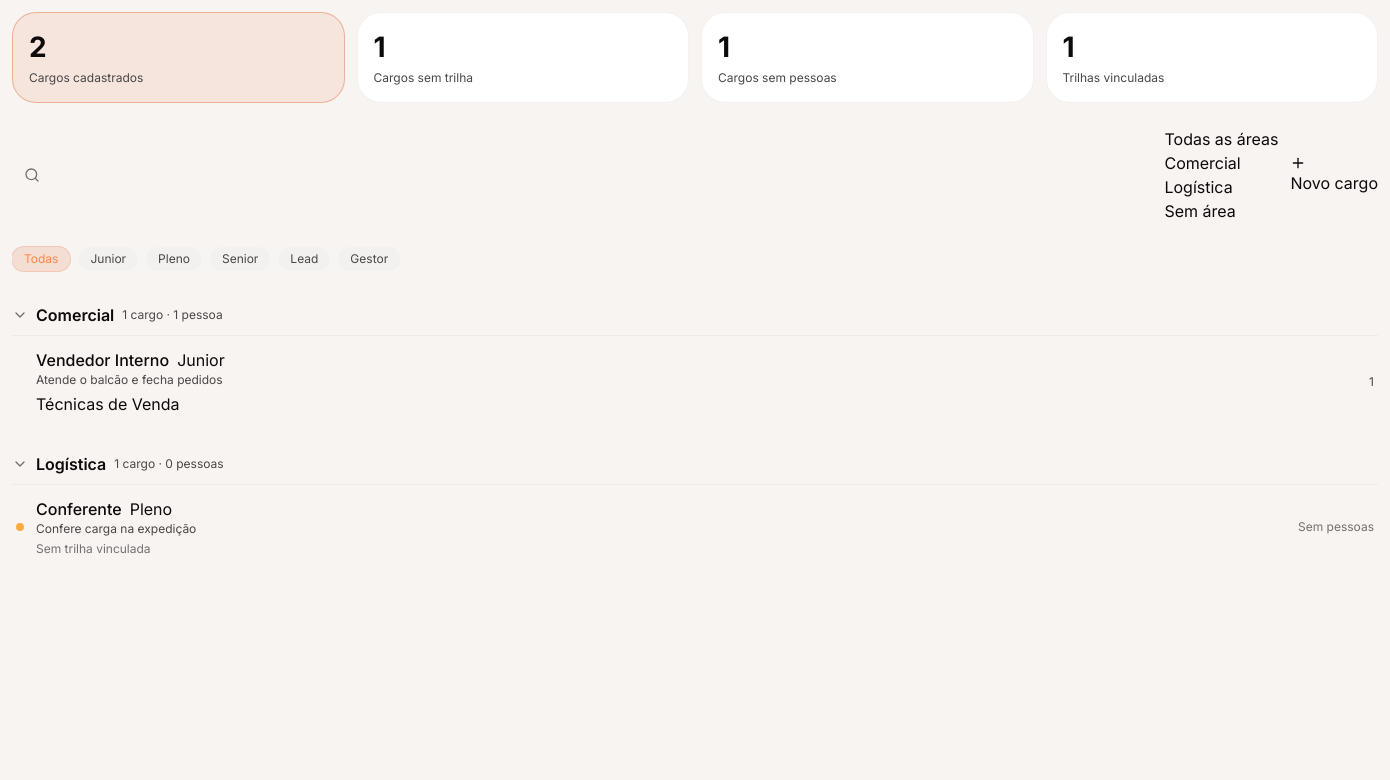
Test case: AC4 — stats clicáveis viram recorte, e o chip limpa › clicar em "Cargos sem trilha" filtra e oferece o chip removível
What coordinates should you click on to do the following:
click the button "1 Cargos sem trilha"
I would click on:
 (423, 78)
Its box is [356,12,689,103].
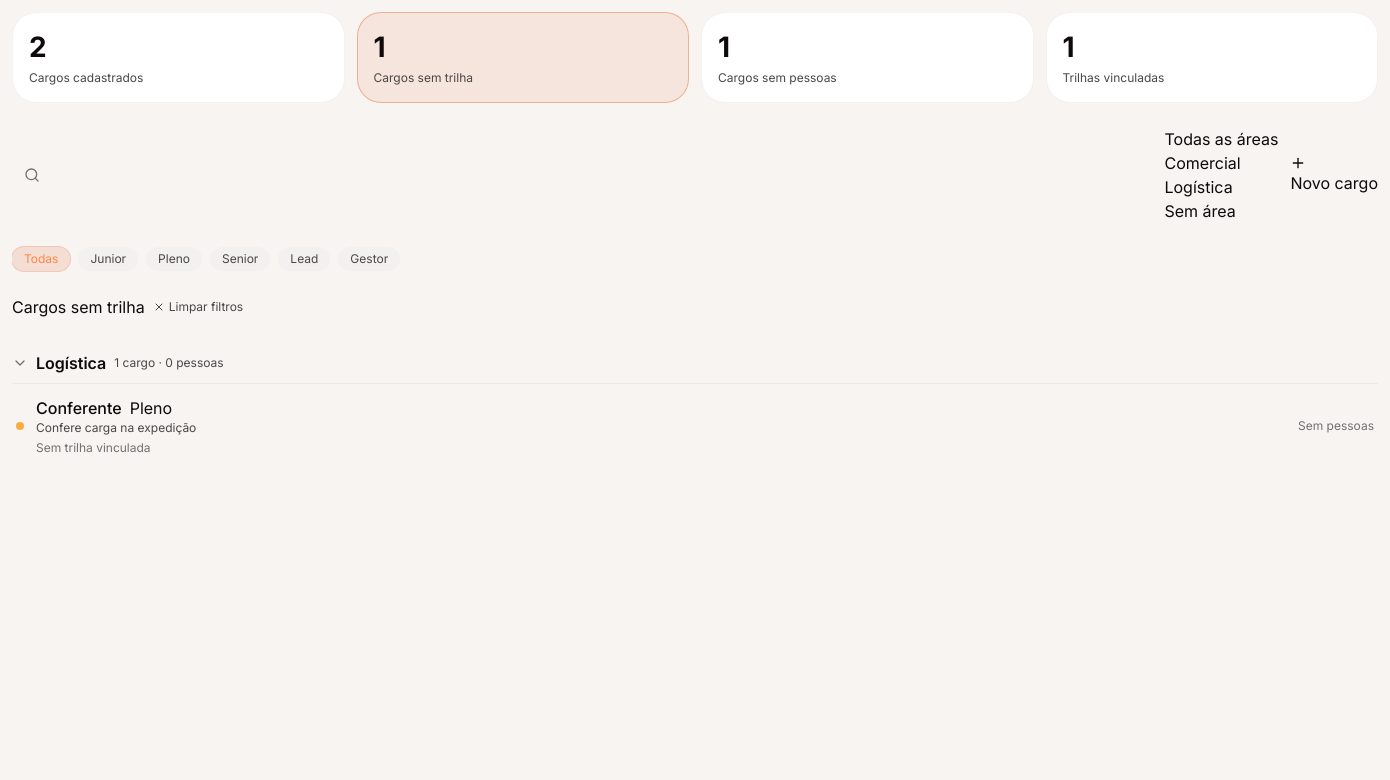
expect the button with test id "job-role-row-jr-conf" is shown: met, box [12,384,1378,468]
expect the button with test id "job-role-row-jr-vend" is gone: met
What coordinates should you click on to do the following:
click the button "Limpar filtros"
I would click on:
 (198, 307)
Its box is [153,299,243,315].
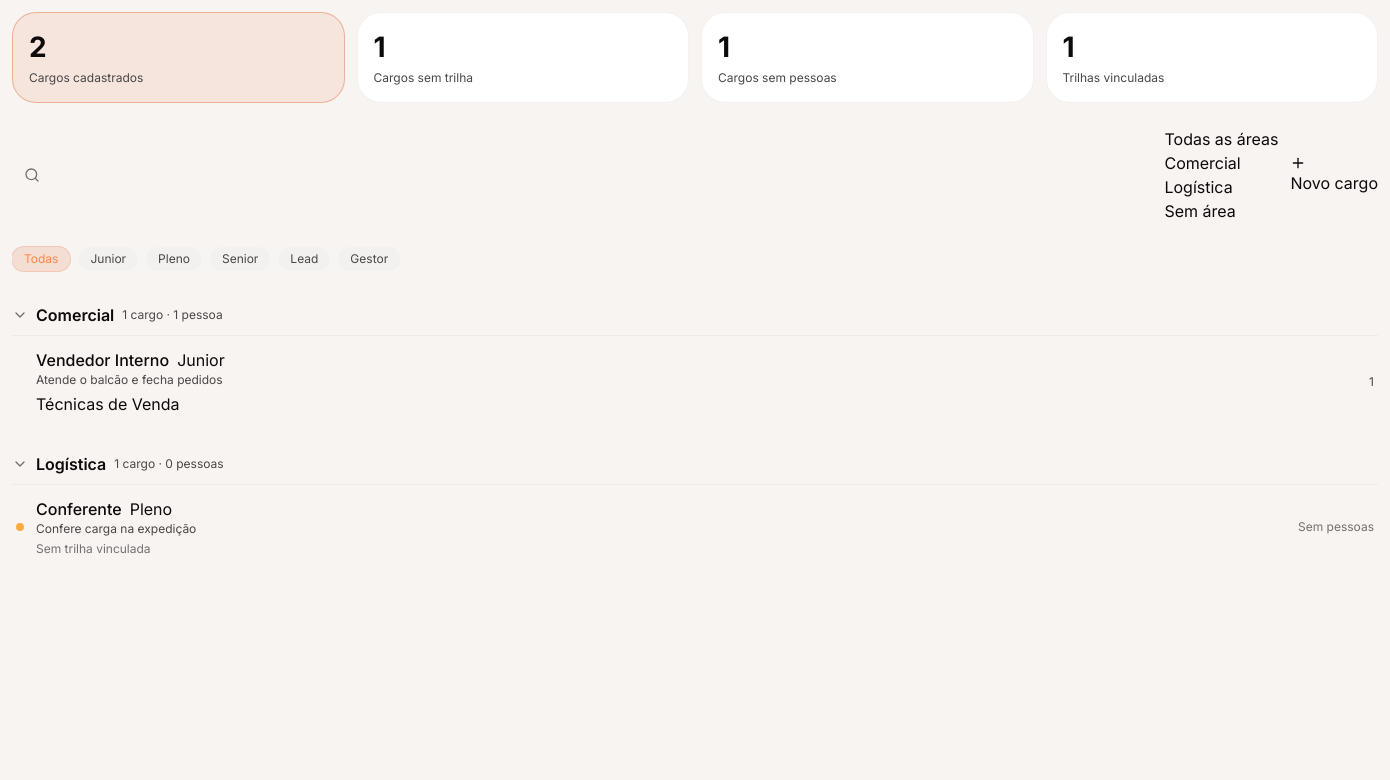
expect the button with test id "job-role-row-jr-vend" is shown: met, box [12,336,1378,428]
